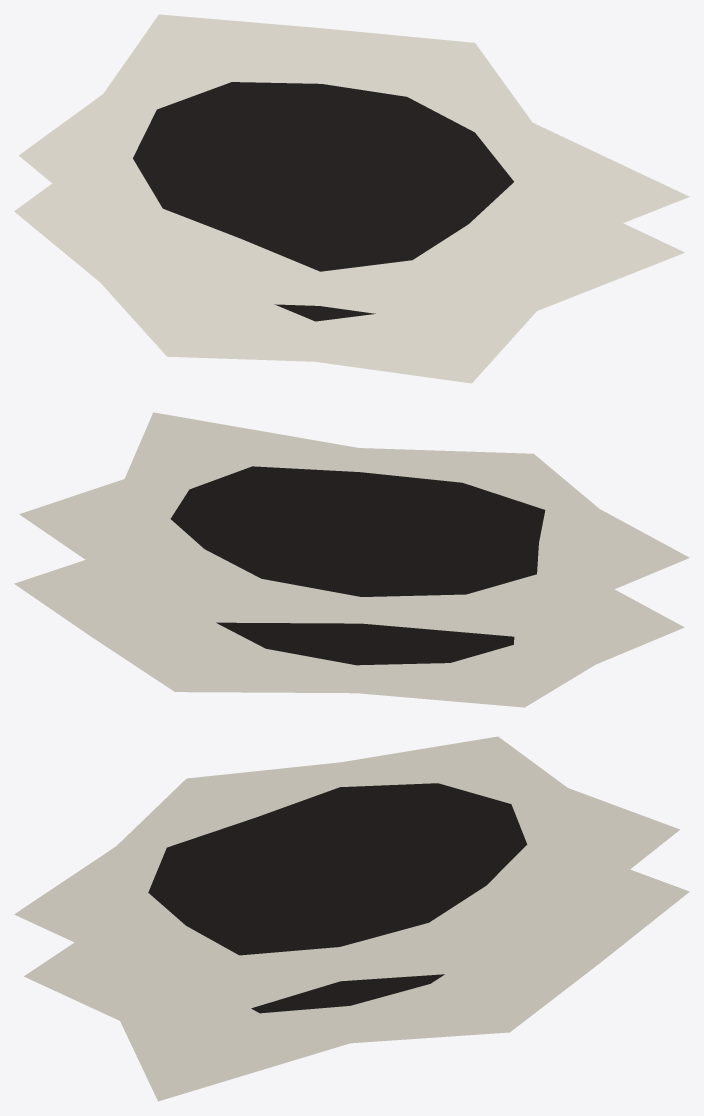
The model's file is hole_stand_08.obj.
3 renders of one model, top to bottom at view 1: azimuth 30°, elevation 25°; view 2: azimuth 150°, elevation 25°; view 3: azimuth 270°, elevation 25°, orthographic. The views are drawn at different scales.
Bounding box in the file's own units: 0.0478 × 0.0127 × 0.0528.
